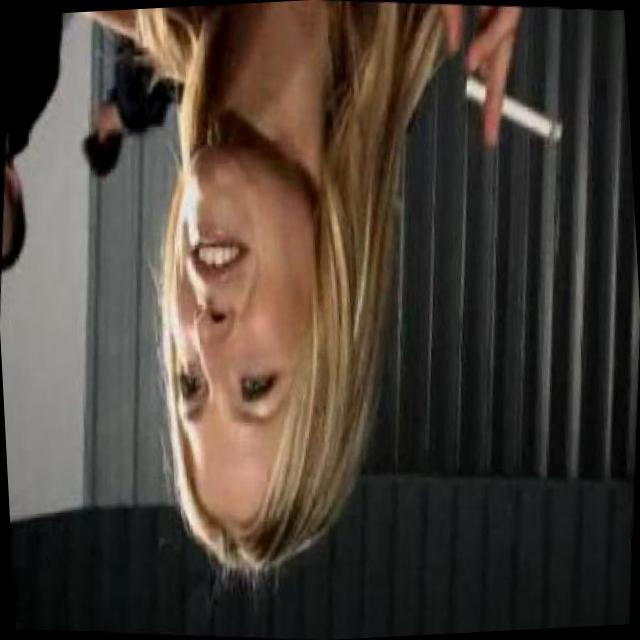cigarette: (460, 63, 572, 148)
